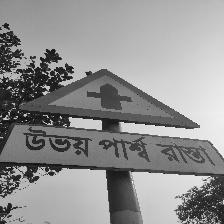Crossroad: (0, 65, 224, 188)
